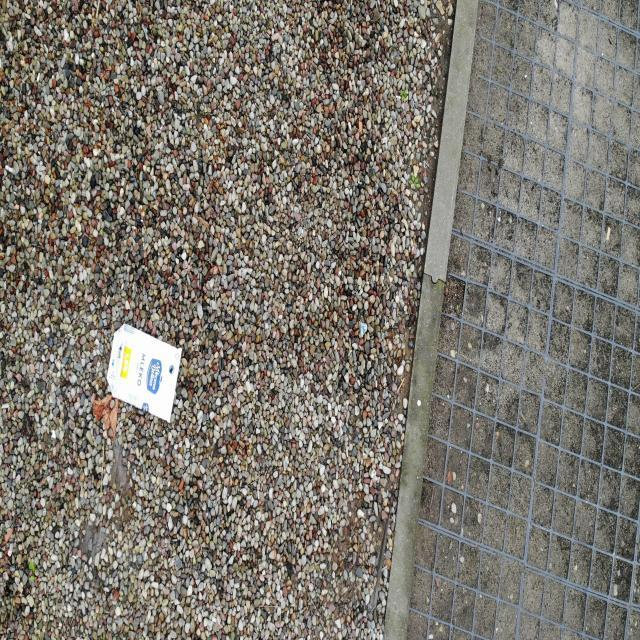rubbish: (106, 321, 182, 422)
